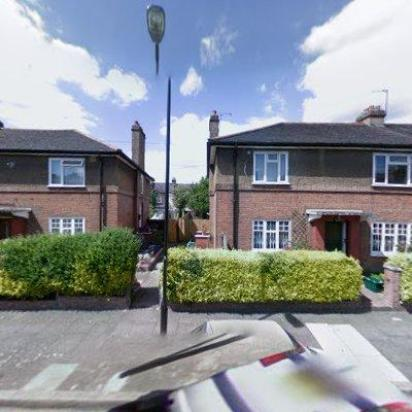stationary-car-onstreet: (57, 308, 411, 410)
